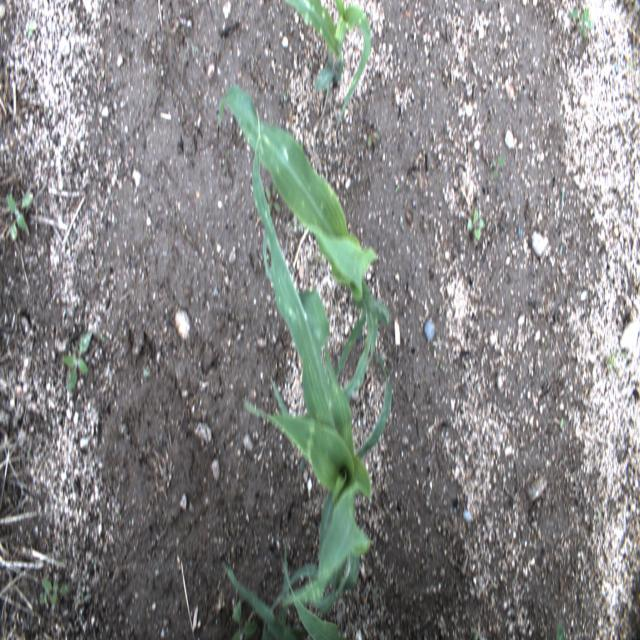crop: (245, 140, 391, 636), (219, 88, 389, 396), (282, 0, 372, 123), (224, 553, 342, 639)
weed: (62, 328, 94, 393), (6, 190, 33, 242), (568, 4, 593, 43), (231, 601, 257, 638), (40, 578, 72, 605), (467, 207, 489, 243), (606, 350, 632, 372), (266, 182, 279, 210), (493, 152, 505, 182), (366, 126, 380, 150), (76, 592, 94, 609), (555, 620, 567, 640), (28, 10, 35, 40), (298, 458, 304, 488), (38, 592, 46, 608), (471, 624, 479, 639), (285, 86, 290, 104), (100, 331, 106, 344), (628, 59, 634, 72), (560, 412, 564, 431), (561, 452, 567, 464), (438, 363, 446, 372), (394, 182, 400, 194), (596, 510, 600, 522)
